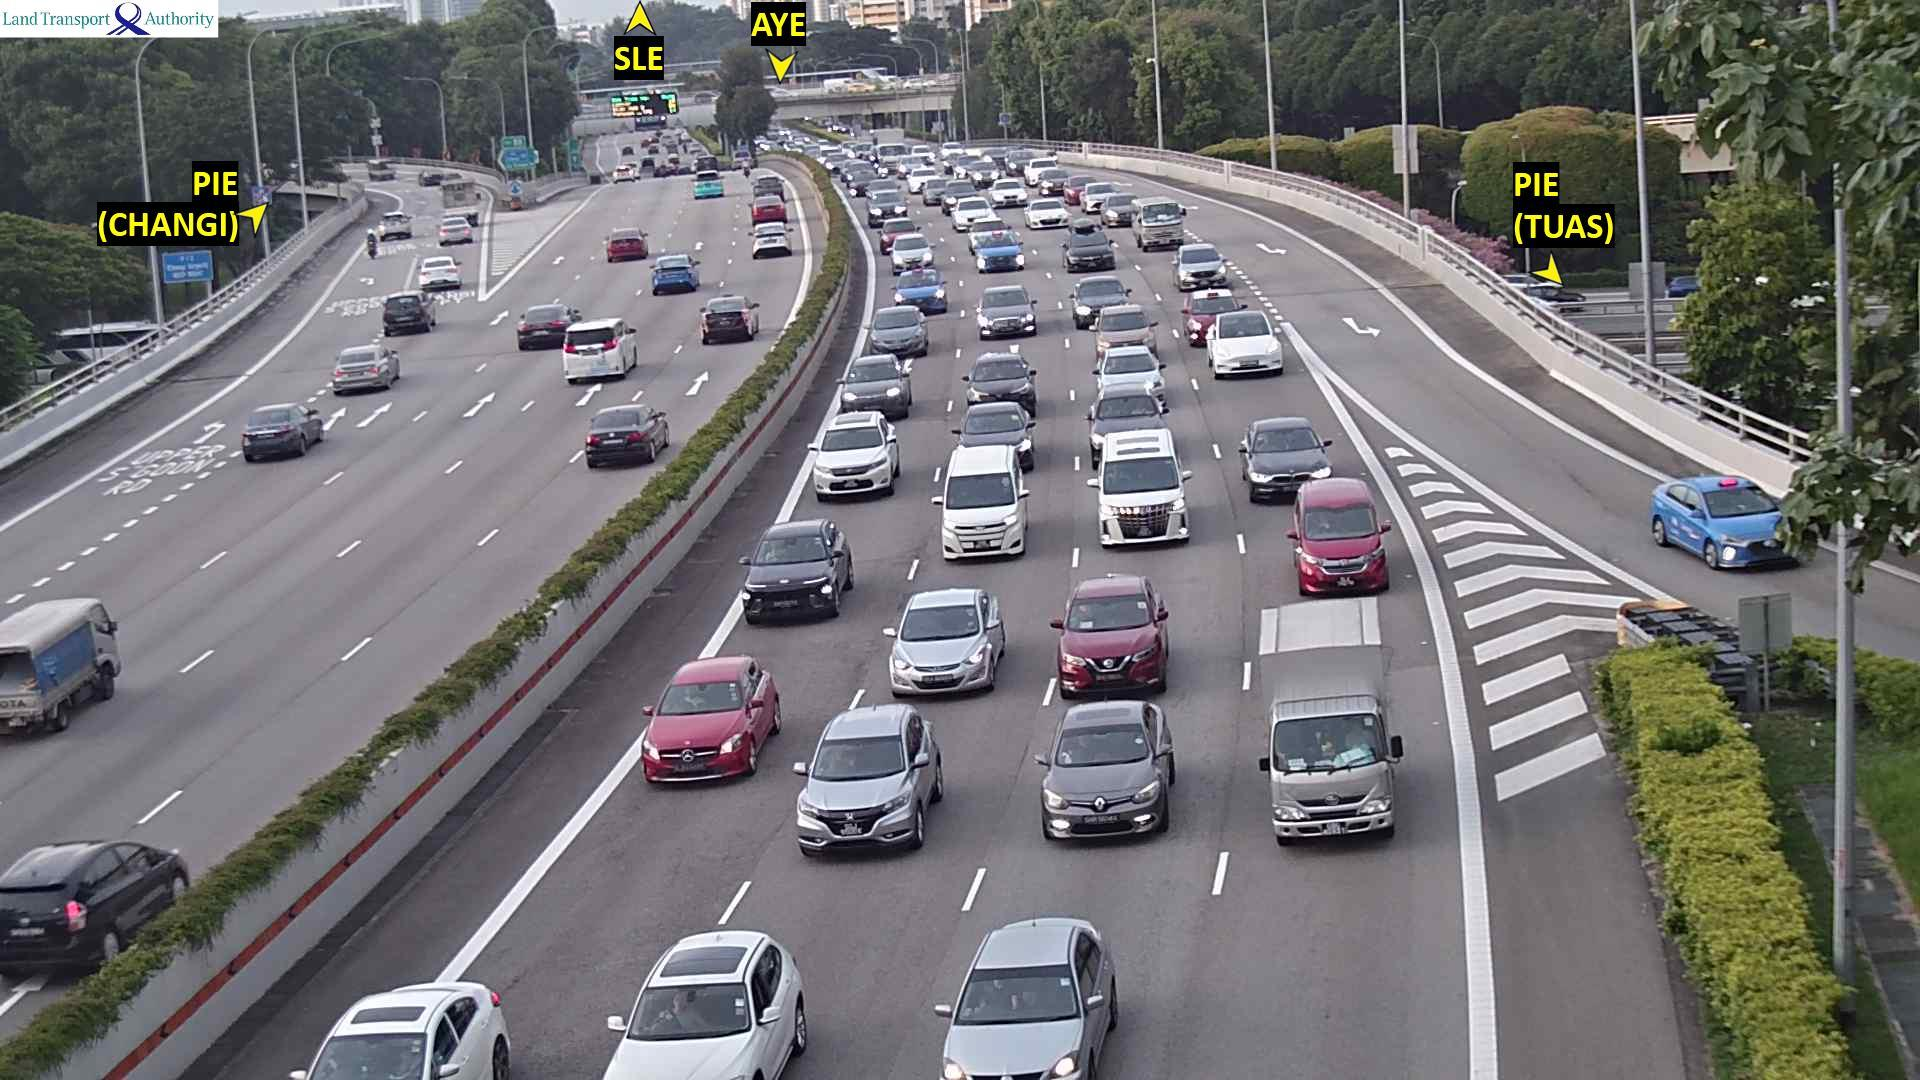incoming: (936, 967, 1108, 1080), (1259, 725, 1406, 847), (607, 990, 787, 1080), (793, 741, 926, 855), (1036, 737, 1171, 843), (644, 684, 765, 781), (1050, 603, 1171, 695), (885, 615, 1001, 696), (1689, 492, 1809, 570), (289, 1029, 455, 1080), (1288, 512, 1394, 592), (1092, 463, 1196, 542), (741, 549, 851, 620), (934, 487, 1033, 559), (810, 429, 898, 493), (1205, 324, 1290, 375), (1241, 438, 1337, 480), (836, 363, 913, 413), (964, 359, 1035, 402), (864, 313, 928, 356), (951, 415, 1040, 446), (1083, 401, 1175, 430), (977, 293, 1038, 336), (1139, 204, 1188, 248), (890, 273, 947, 309), (1093, 360, 1166, 388), (1091, 315, 1159, 344), (1172, 252, 1230, 286), (1064, 237, 1114, 270), (887, 239, 938, 268), (1072, 284, 1131, 307), (978, 240, 1023, 270), (1026, 203, 1069, 229), (1185, 297, 1240, 318), (868, 193, 909, 220), (953, 200, 993, 225), (993, 181, 1026, 208), (1085, 183, 1114, 212), (1109, 194, 1137, 224), (924, 177, 948, 204), (944, 182, 981, 199), (1042, 171, 1068, 195), (975, 166, 1001, 182)
